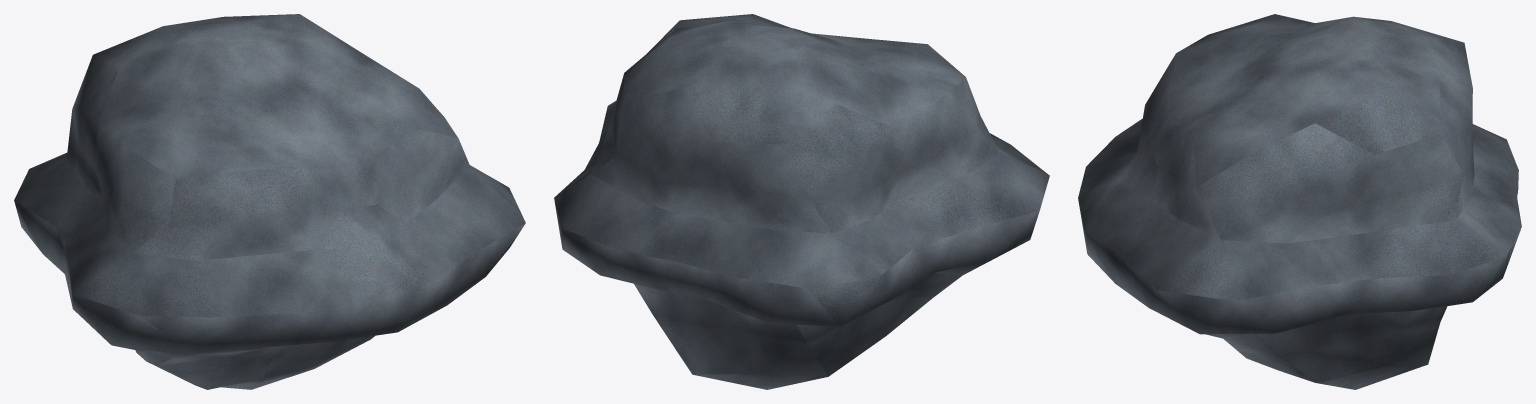
File: roca_fria.fbx
3 views of the same model, side by side, from view 1: azimuth 30°, elevation 25°; view 2: azimuth 150°, elevation 25°; view 3: azimuth 270°, elevation 25° (orthographic). The views are drawn at different scales.
Parts seen in each view (by area): view 1: roca_fria; view 2: roca_fria; view 3: roca_fria.
Part boxes in pixels (x1,y1,x2,y2): roca_fria: [14, 14, 525, 389]; roca_fria: [554, 14, 1049, 389]; roca_fria: [1078, 14, 1521, 389].
Bounding box in the file's own units: 4.05 × 3.04 × 3.66.
Materials: 1 (1 with a texture image).
